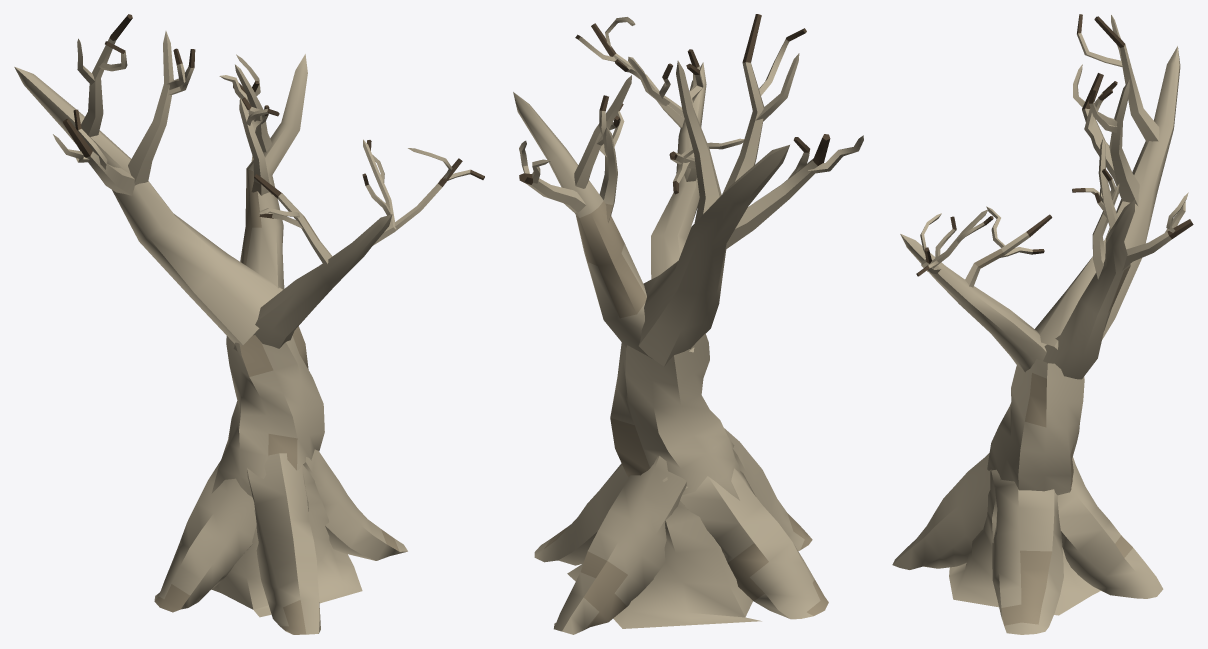
File: dead_tree_b.glb
3 views of the same model, side by side, from view 1: azimuth 30°, elevation 25°; view 2: azimuth 150°, elevation 25°; view 3: azimuth 270°, elevation 25° (orthographic). The views are drawn at different scales.
Visible parts, largest first — view 1: dead_tree_b; view 2: dead_tree_b; view 3: dead_tree_b.
Part boxes in pixels (x1=…): dead_tree_b: x1=14, y1=14, x2=484, y2=634; dead_tree_b: x1=513, y1=14, x2=863, y2=634; dead_tree_b: x1=892, y1=14, x2=1193, y2=634.
Size of the model in its own units: 2.58 by 4 by 2.13.
